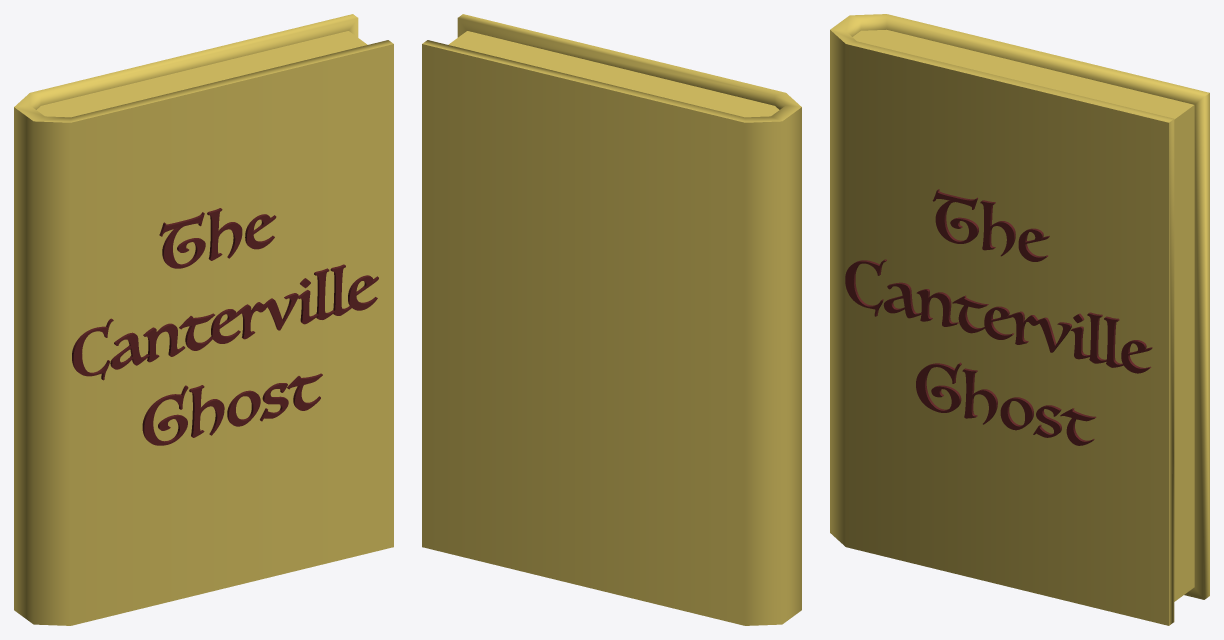
Rendered from GhostBook.fbx.
The picture shows the model from 3 angles, left to right: view 1: azimuth 30°, elevation 25°; view 2: azimuth 150°, elevation 25°; view 3: azimuth 330°, elevation 25°; orthographic projection.
Visible parts, largest first — view 1: Book_6, Text; view 2: Book_6; view 3: Book_6, Text.
Boxes of the visible parts, bbox=[...] form: Book_6: bbox=[14, 14, 393, 625]; Text: bbox=[72, 208, 378, 445]; Book_6: bbox=[422, 14, 801, 625]; Book_6: bbox=[830, 14, 1209, 625]; Text: bbox=[845, 189, 1152, 445].
Size of the model in its own units: 25.42 by 34.97 by 5.37.
